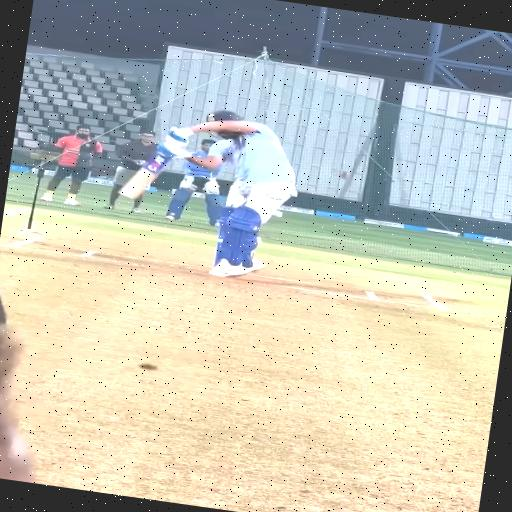Cricket bat: (121, 150, 171, 199)
